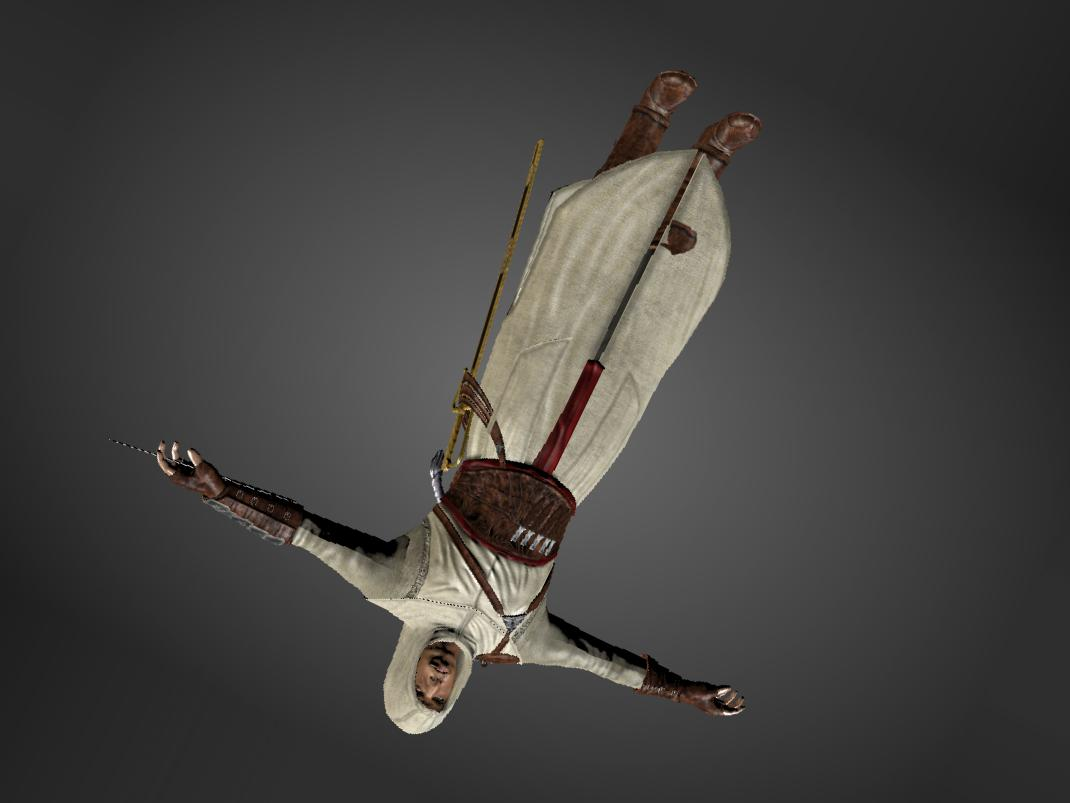clip: (666, 213, 702, 262)
